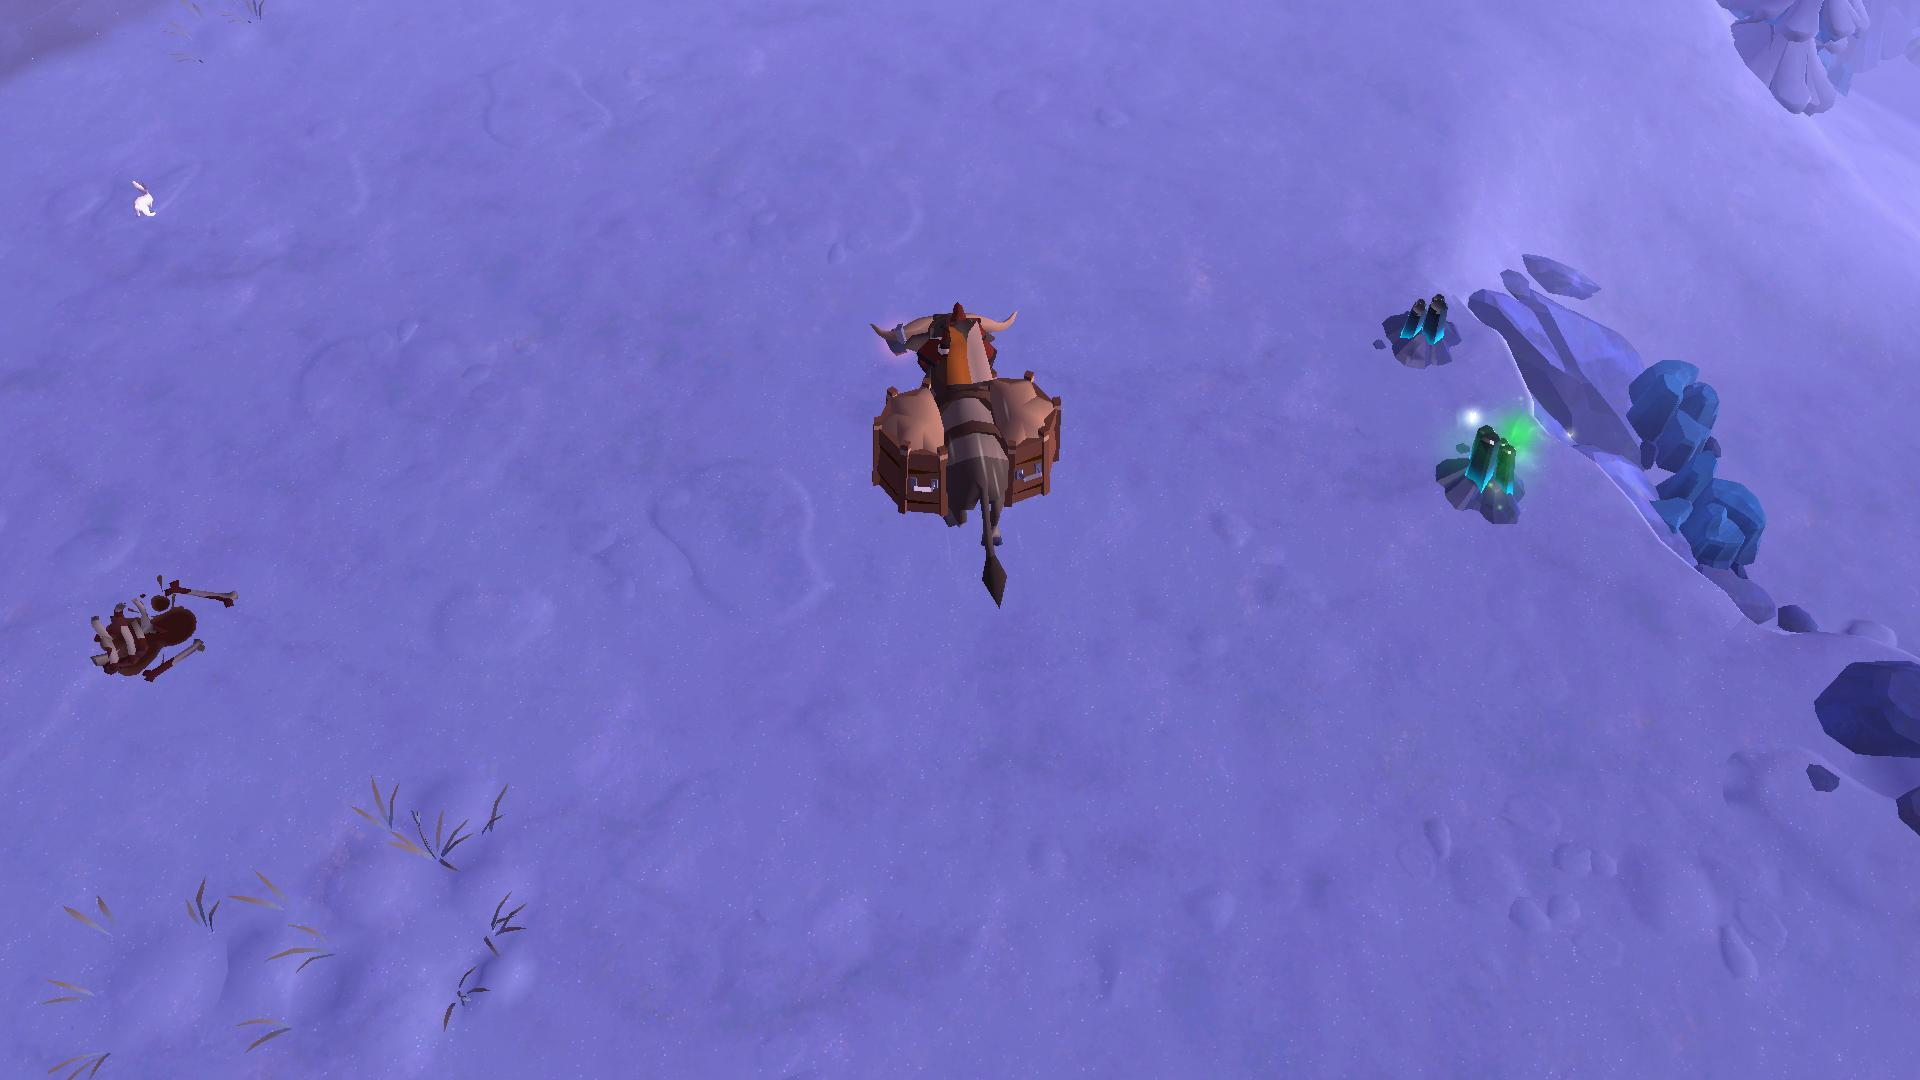ore_t4: (1462, 415, 1522, 508), (1393, 285, 1451, 348)
rock_t4: (1648, 468, 1771, 572), (1627, 356, 1722, 462)
